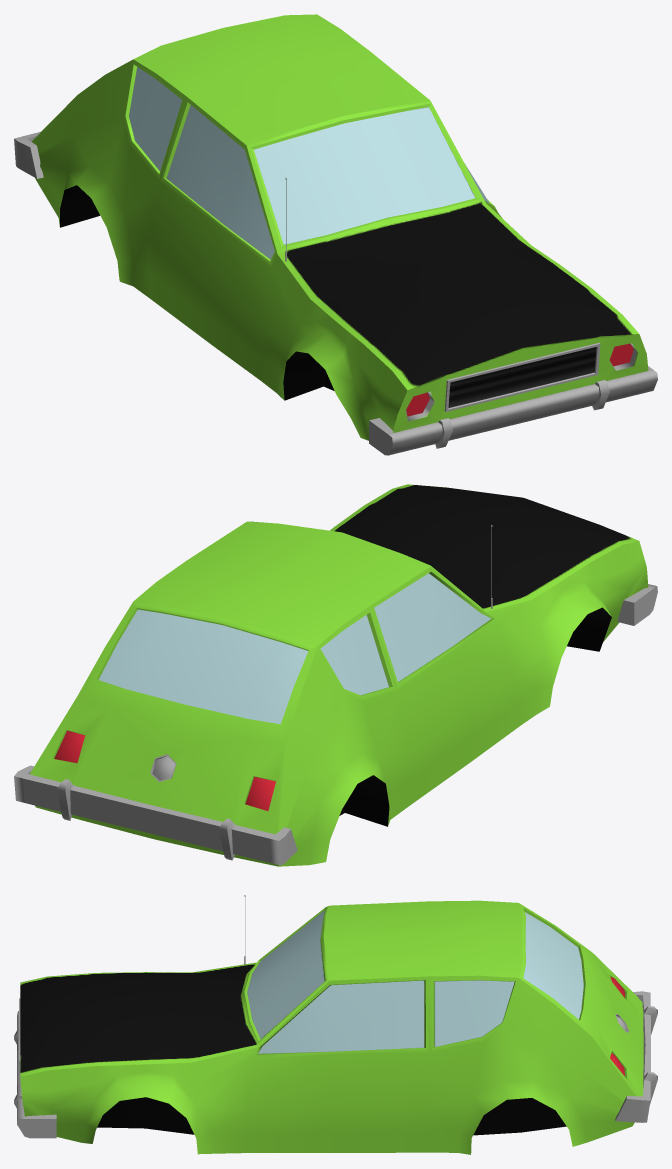
The model's file is AMCgremlin.fbx.
3 renders of one model, top to bottom at view 1: azimuth 30°, elevation 25°; view 2: azimuth 150°, elevation 25°; view 3: azimuth 270°, elevation 25°, orthographic. The views are drawn at different scales.
Parts seen in each view (by area): view 1: body1, frontBumper1, rearBumper1; view 2: body1, rearBumper1, frontBumper1; view 3: body1, rearBumper1, frontBumper1.
Part boxes in pixels (x1,y1,x2,y2): body1: (31,14,648,440); frontBumper1: (369,366,657,455); rearBumper1: (14,132,43,178); body1: (30,484,648,866); rearBumper1: (14,765,297,865); frontBumper1: (617,584,657,625); body1: (19,895,643,1154); rearBumper1: (615,991,657,1122); frontBumper1: (14,1011,56,1138).
Size of the model in its own units: 1.75 by 1.2 by 4.14.
